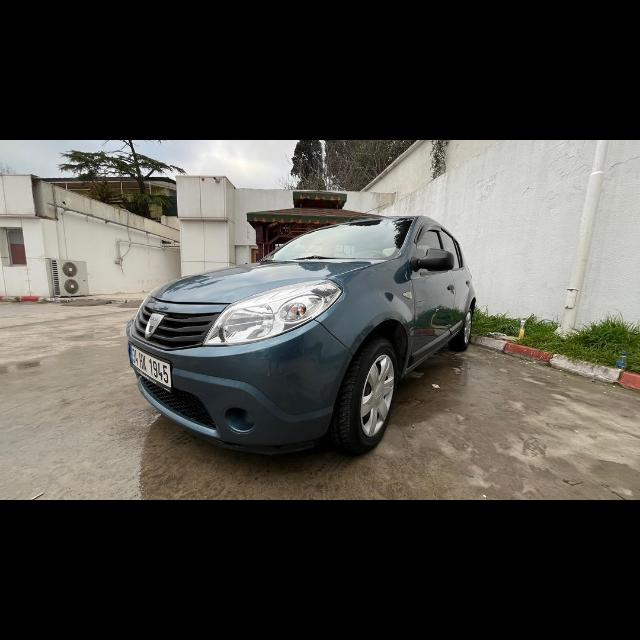Plaka: (129, 344, 171, 388)
